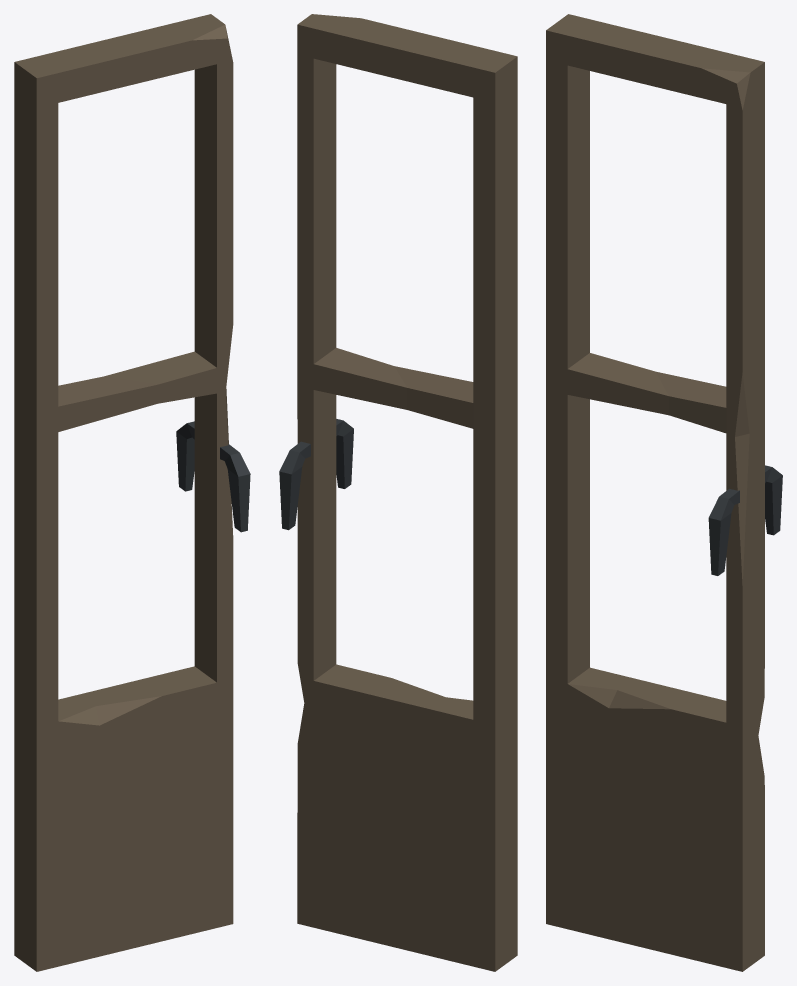
The model's file is SM_Bld_Shop_Door_01_L.glb.
3 views of the same model, side by side, from view 1: azimuth 30°, elevation 25°; view 2: azimuth 150°, elevation 25°; view 3: azimuth 330°, elevation 25° (orthographic).
Parts seen in each view (by area): view 1: SM_Bld_Shop_Door_01_L; view 2: SM_Bld_Shop_Door_01_L; view 3: SM_Bld_Shop_Door_01_L.
Part boxes in pixels (<box>): SM_Bld_Shop_Door_01_L: <box>14,14,250,971</box>; SM_Bld_Shop_Door_01_L: <box>279,14,517,971</box>; SM_Bld_Shop_Door_01_L: <box>546,14,782,971</box>.
Bounding box in the file's own units: 0.5121 × 2.22 × 0.2805.
Materials: 1 (1 with a texture image).
